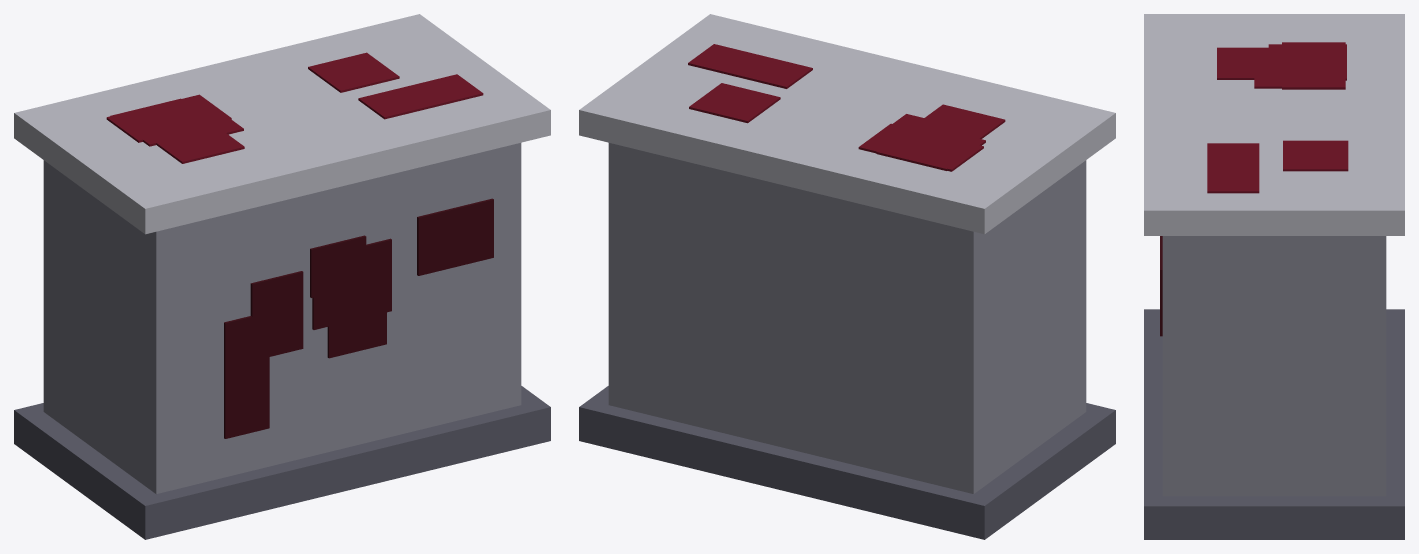
The model's file is altar_stone.glb.
The picture shows the model from 3 angles, left to right: view 1: azimuth 30°, elevation 25°; view 2: azimuth 150°, elevation 25°; view 3: azimuth 270°, elevation 25°; orthographic projection.
Parts seen in each view (by area): view 1: altar_stone; view 2: altar_stone; view 3: altar_stone.
Part boxes in pixels (box(x1,y1,x2,y2)): altar_stone: box(14, 14, 550, 539); altar_stone: box(579, 14, 1115, 539); altar_stone: box(1144, 14, 1404, 539).
Bounding box in the file's own units: 1 × 0.785 × 0.56.
